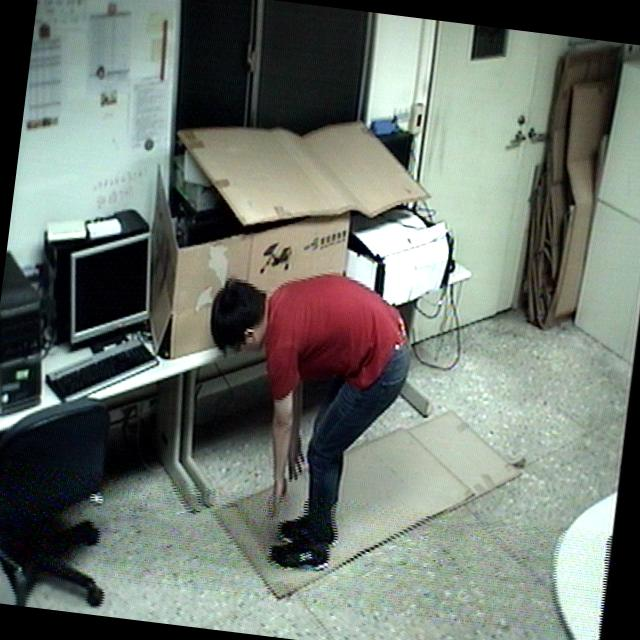bend: (176, 246, 431, 584)
